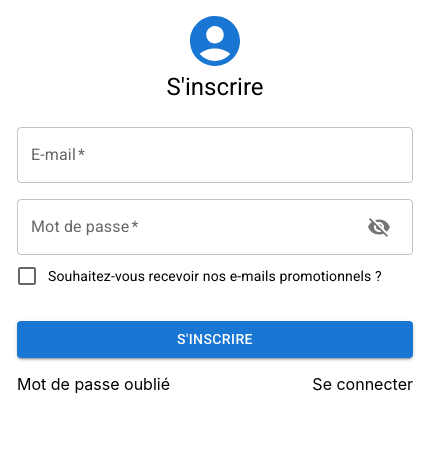
Test case: SignUp Component › displays error when email is invalid
Type "invalid-email" into the field labelled "E-mail *" at x=215, y=155, box [17,127,413,183]
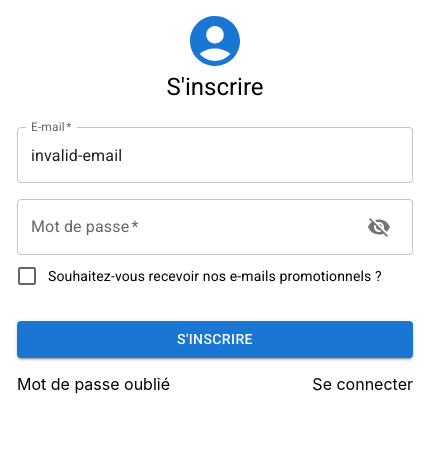
Click the button "S'inscrire" at x=215, y=339, box [17,321,413,358]
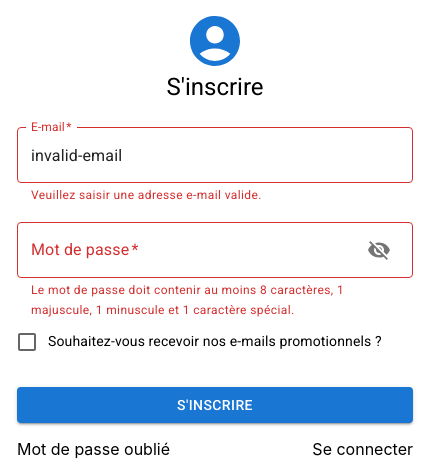
Result: the text "Veuillez saisir une adresse e-mail valide." is shown at [31,188,262,202]
